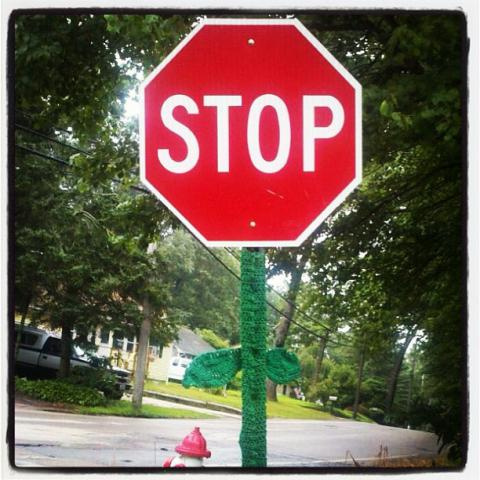truck: (13, 324, 134, 401)
